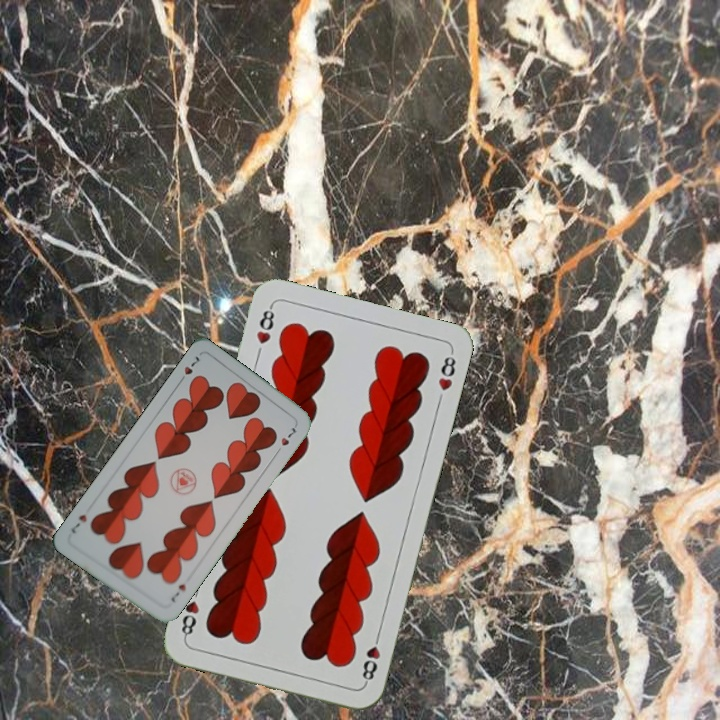H7: (174, 352, 204, 386), (166, 580, 189, 605)
H8: (358, 629, 383, 687), (252, 301, 277, 347)
